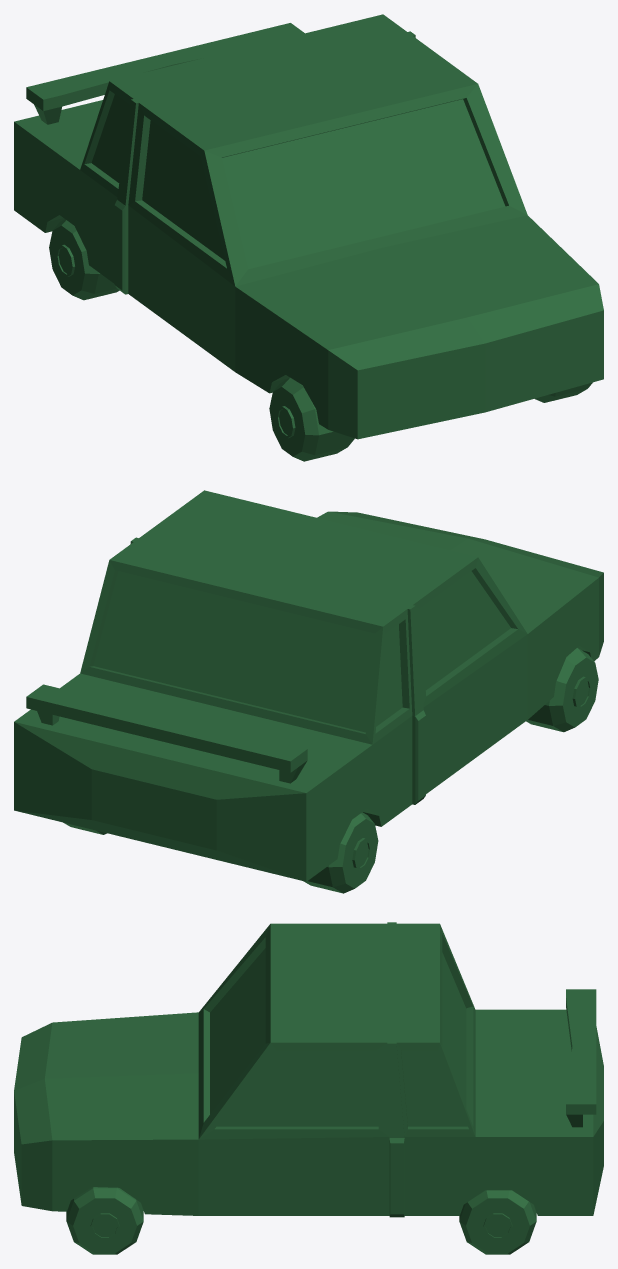
File: suv.glb
The picture shows the model from 3 angles, top to bottom: view 1: azimuth 30°, elevation 25°; view 2: azimuth 150°, elevation 25°; view 3: azimuth 270°, elevation 25°; orthographic projection. The views are drawn at different scales.
Parts seen in each view (by area): view 1: Cube001, FrontWheels001, FrontWheels000; view 2: Cube001, FrontWheels001, FrontWheels000; view 3: Cube001, FrontWheels001, FrontWheels000.
Boxes of the visible parts, x1,y1,x2,y2 form: Cube001: [14, 14, 603, 439]; FrontWheels001: [269, 377, 592, 461]; FrontWheels000: [49, 219, 119, 300]; Cube001: [14, 490, 603, 881]; FrontWheels001: [526, 648, 598, 732]; FrontWheels000: [63, 812, 378, 893]; Cube001: [14, 922, 603, 1217]; FrontWheels001: [66, 1187, 143, 1254]; FrontWheels000: [459, 1190, 536, 1254].
Bounding box in the file's own units: 214 × 160 × 403.
